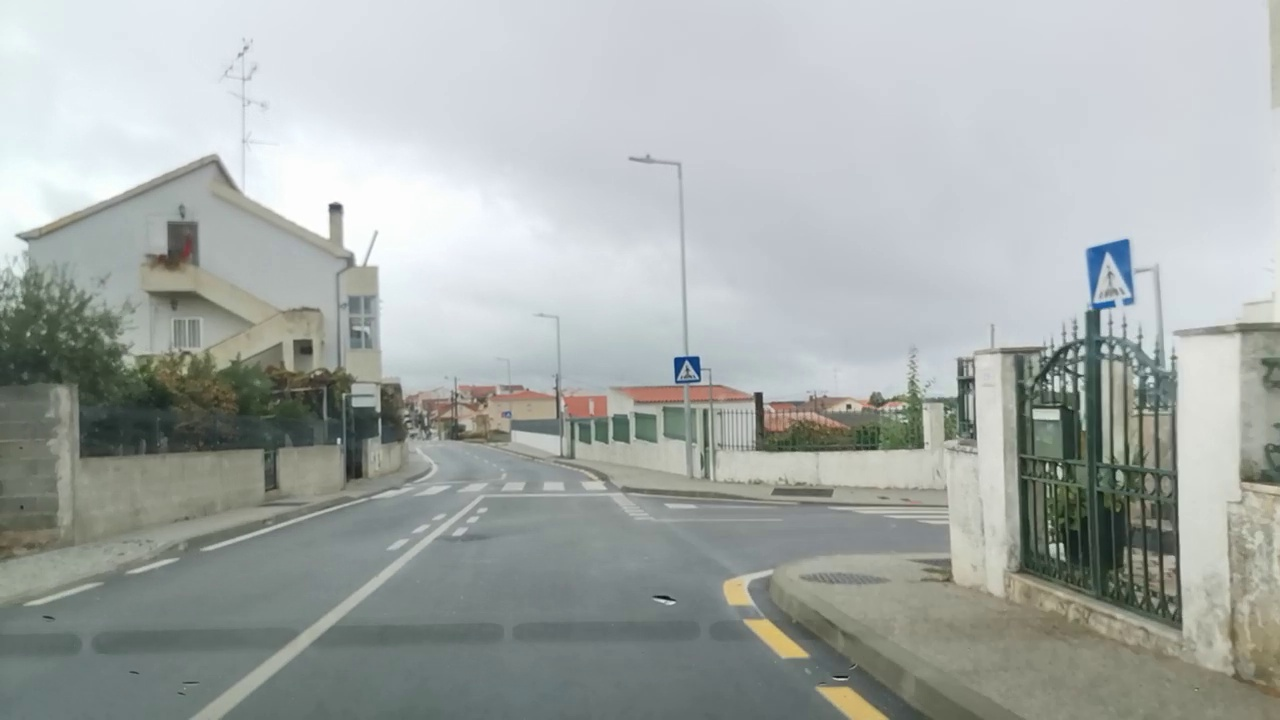Stairs: (374, 478, 612, 494)
